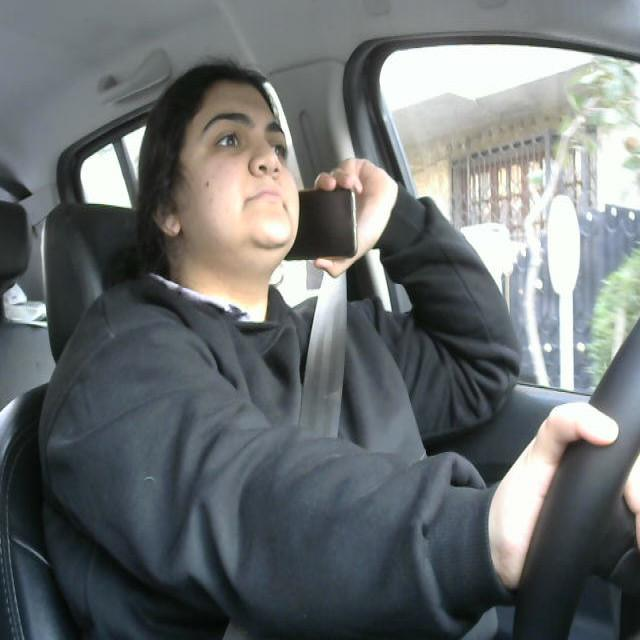mobile use: (300, 168, 364, 278)
